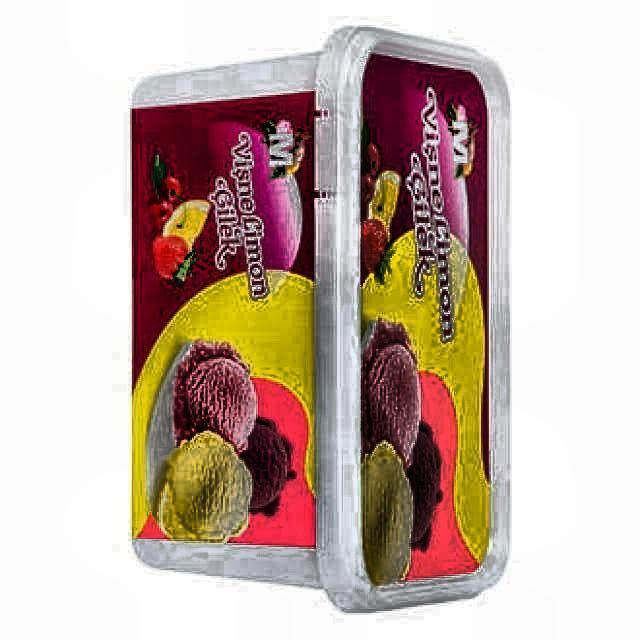plastic: (131, 28, 510, 611)
